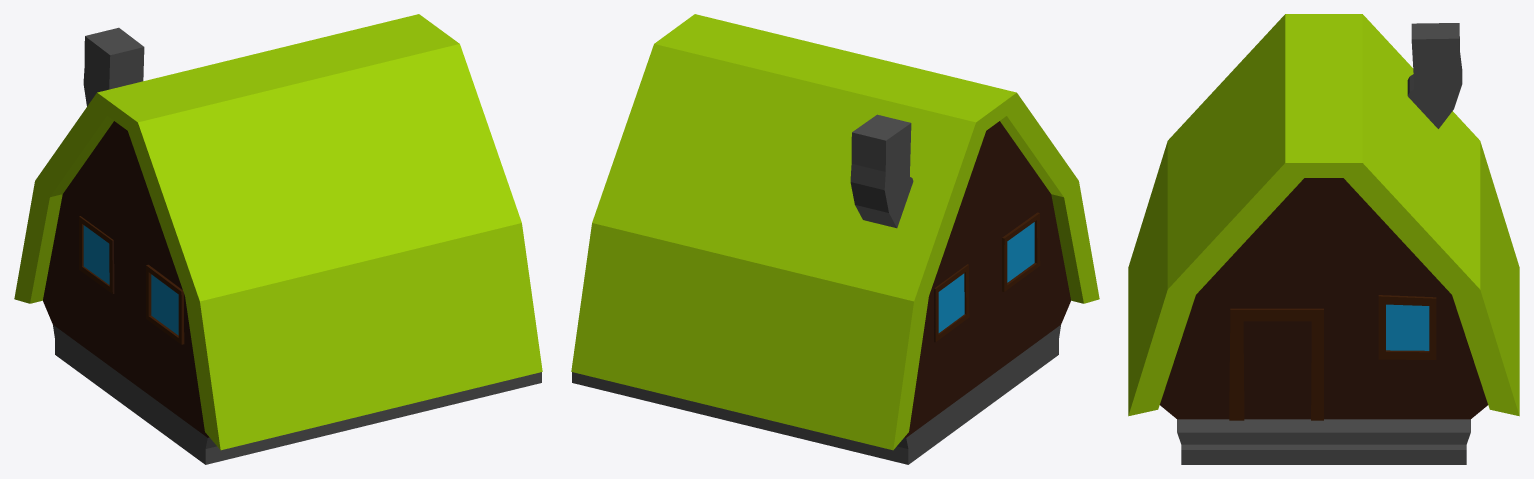
Rendered from HouseTypeA.fbx.
3 views of the same model, side by side, from view 1: azimuth 30°, elevation 25°; view 2: azimuth 150°, elevation 25°; view 3: azimuth 270°, elevation 25° (orthographic). The views are drawn at different scales.
Visible parts, largest first — view 1: Cylinder; view 2: Cylinder; view 3: Cylinder.
Part boxes in pixels (x1,y1,x2,y2): Cylinder: (14, 14, 542, 464); Cylinder: (571, 14, 1099, 464); Cylinder: (1128, 14, 1519, 464).
Size of the model in its own units: 114 by 98.04 by 116.
